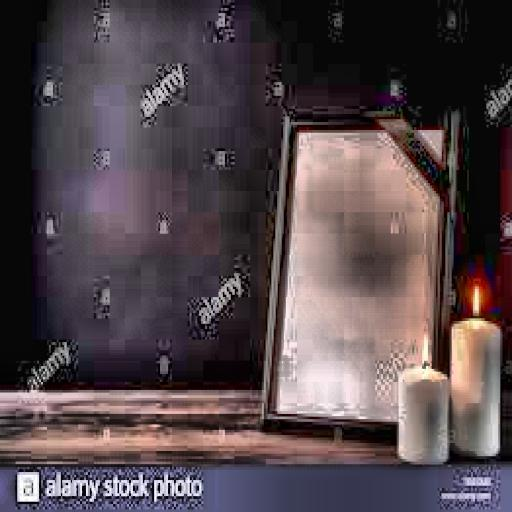fire: (414, 326, 430, 364), (467, 282, 481, 318)
